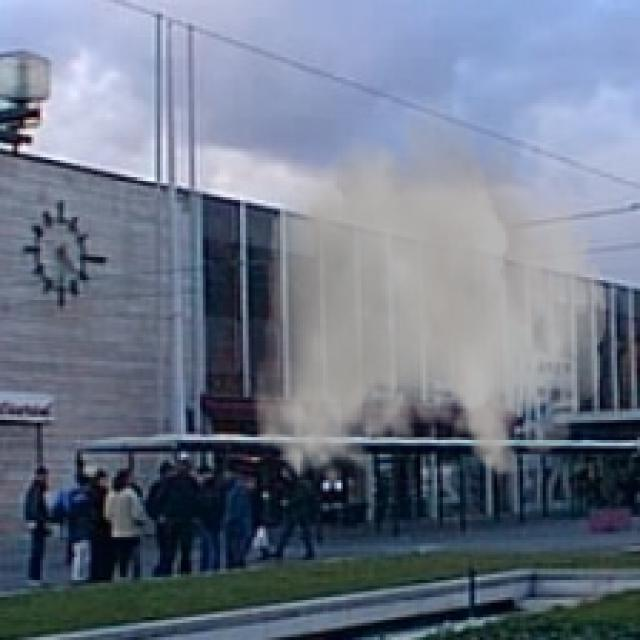smoke: (251, 86, 606, 488)
